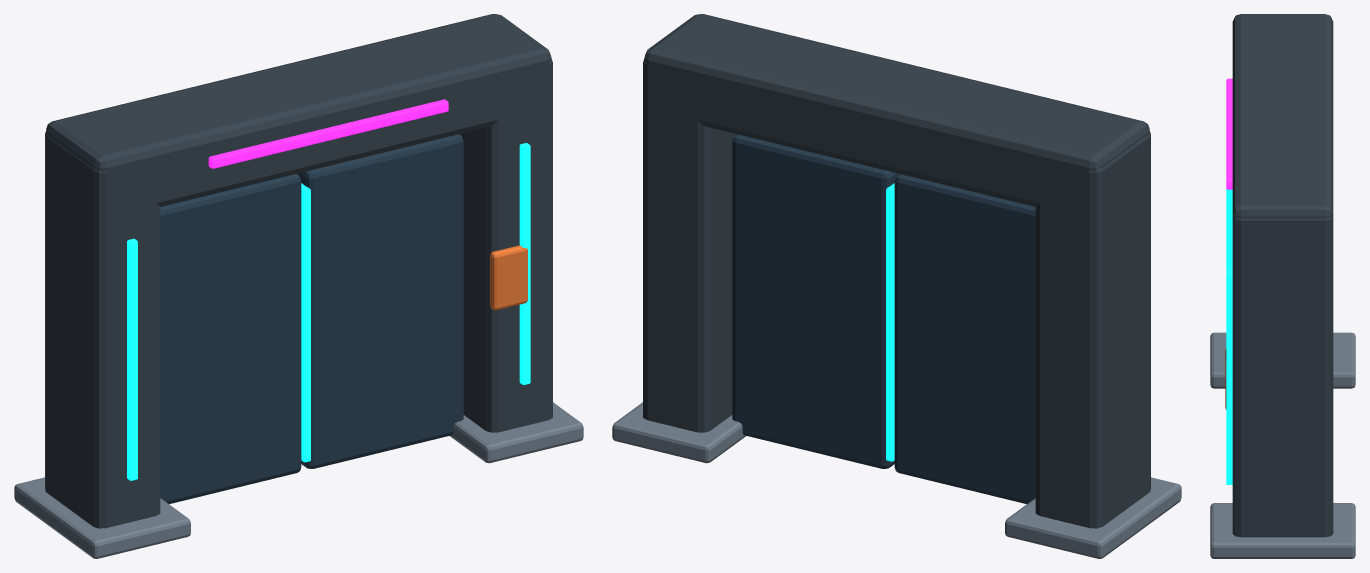
Rendered from security-gate.glb.
The picture shows the model from 3 angles, left to right: view 1: azimuth 30°, elevation 25°; view 2: azimuth 150°, elevation 25°; view 3: azimuth 270°, elevation 25°; orthographic projection. The views are drawn at different scales.
Parts seen in each view (by area): view 1: RightDoor, TopBeam, LeftDoor, LeftPillar, RightPillar, Foot_-4.3, Foot_4.3, HeaderLight, DoorSeam, PillarLight_-4.3, PillarLight_4.3, AccessPanel; view 2: TopBeam, RightDoor, LeftDoor, LeftPillar, RightPillar, Foot_-4.3, Foot_4.3, DoorSeam; view 3: RightPillar, TopBeam, Foot_4.3, Foot_-4.3, PillarLight_4.3, HeaderLight, PillarLight_-4.3.
Boxes of the visible parts, x1,y1,x2,y2 form: RightDoor: (297, 134, 463, 468); TopBeam: (46, 14, 551, 214); LeftDoor: (160, 173, 301, 504); LeftPillar: (45, 130, 160, 528); RightPillar: (460, 59, 552, 432); Foot_-4.3: (14, 477, 190, 558); Foot_4.3: (450, 402, 583, 463); HeaderLight: (208, 99, 448, 168); DoorSeam: (301, 183, 310, 462); PillarLight_-4.3: (127, 238, 137, 480); PillarLight_4.3: (519, 143, 530, 384); AccessPanel: (490, 245, 527, 310); TopBeam: (644, 14, 1149, 214); RightDoor: (732, 134, 898, 468); LeftDoor: (894, 173, 1035, 504); LeftPillar: (1035, 130, 1150, 528); RightPillar: (643, 59, 735, 432); Foot_-4.3: (1005, 477, 1181, 558); Foot_4.3: (612, 402, 745, 463); DoorSeam: (886, 183, 894, 461); RightPillar: (1232, 216, 1333, 537); TopBeam: (1232, 14, 1333, 217); Foot_4.3: (1210, 503, 1355, 558); Foot_-4.3: (1210, 332, 1355, 388); PillarLight_4.3: (1226, 270, 1232, 484); HeaderLight: (1226, 78, 1232, 189); PillarLight_-4.3: (1226, 189, 1232, 270).
Bounding box in the file's own units: 3.01 × 2.27 × 0.868.
